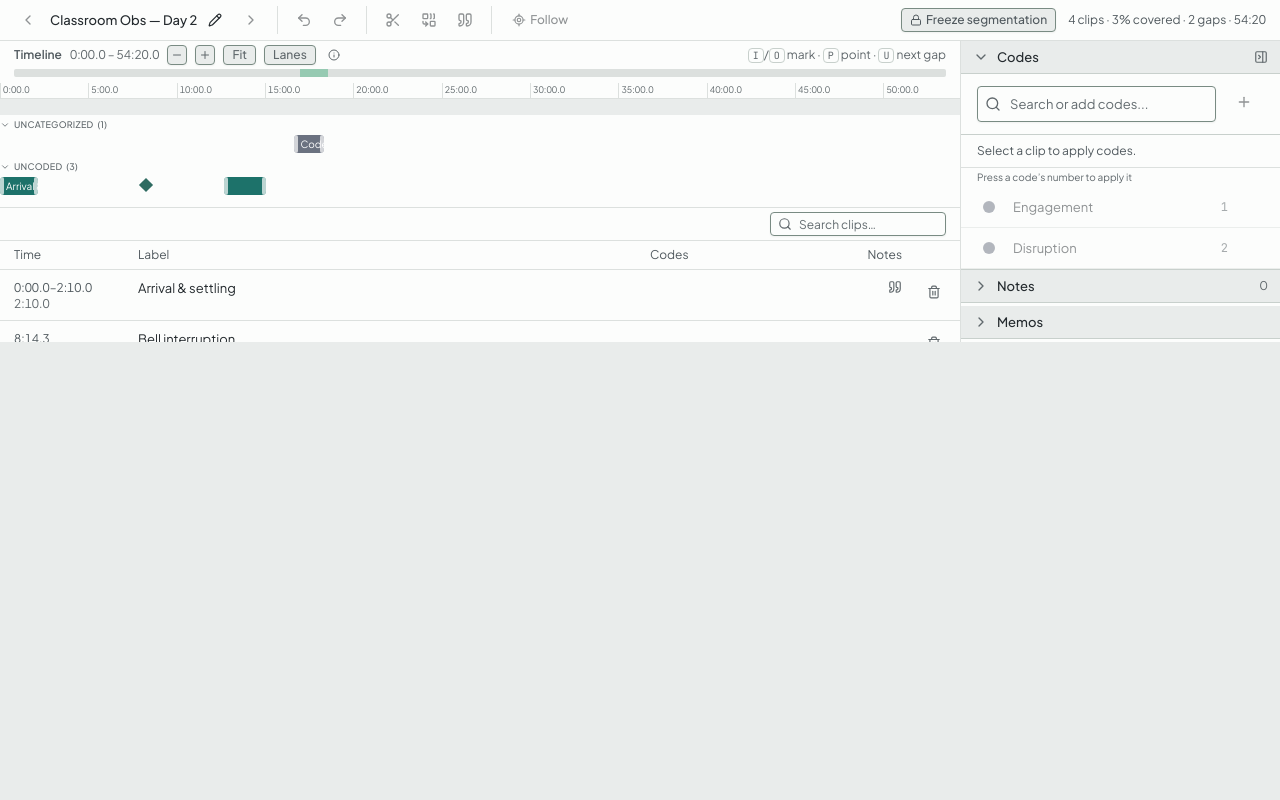
Scenario: sub-clip quotes (slab 5b) › #619 — a quoted clip is annotated › confirms before deleting a quoted-but-uncoded clip, and the copy names the quote
Click the button named "Delete clip 0:00.0" at (934, 292), box [922, 280, 946, 304]
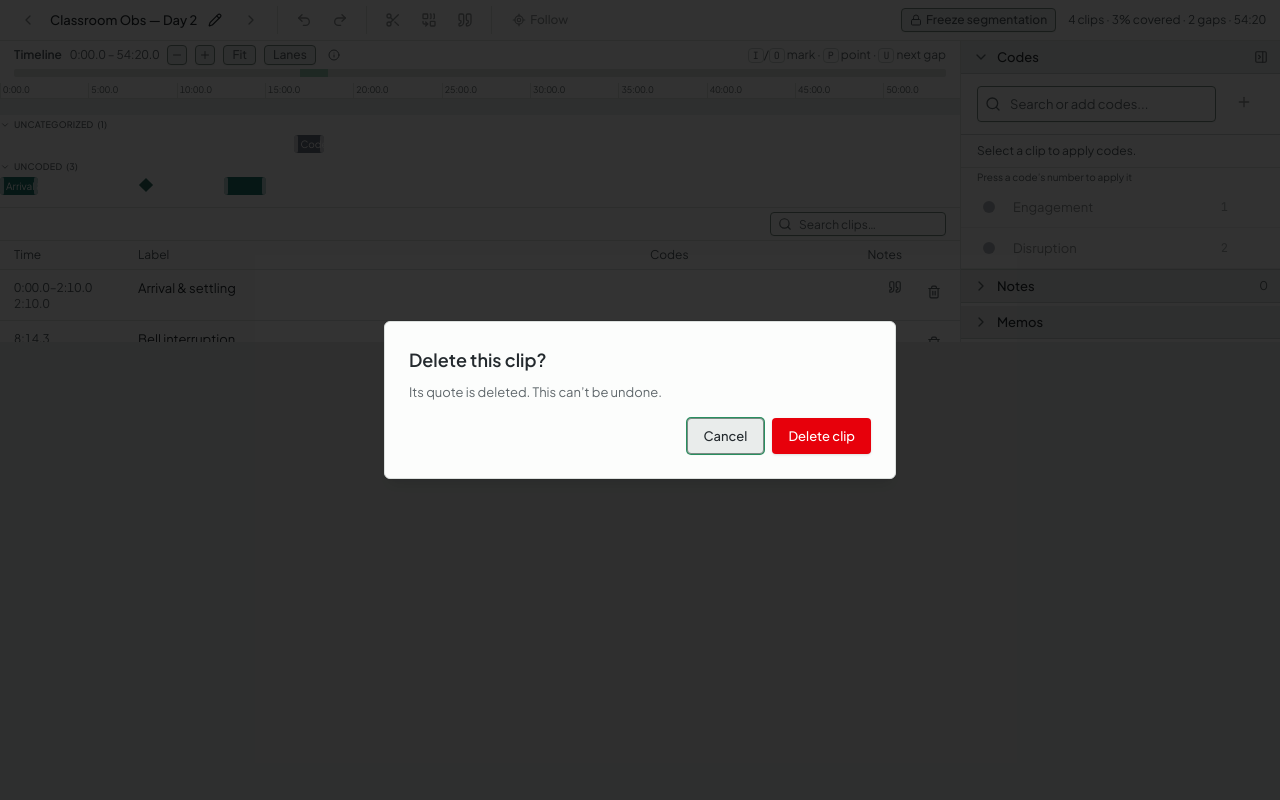
Expected: the heading "Delete this clip?" is shown, [409, 348, 546, 371]
Expected: the text "Its quote is deleted. This can’t be undone." is shown, [409, 384, 662, 400]
